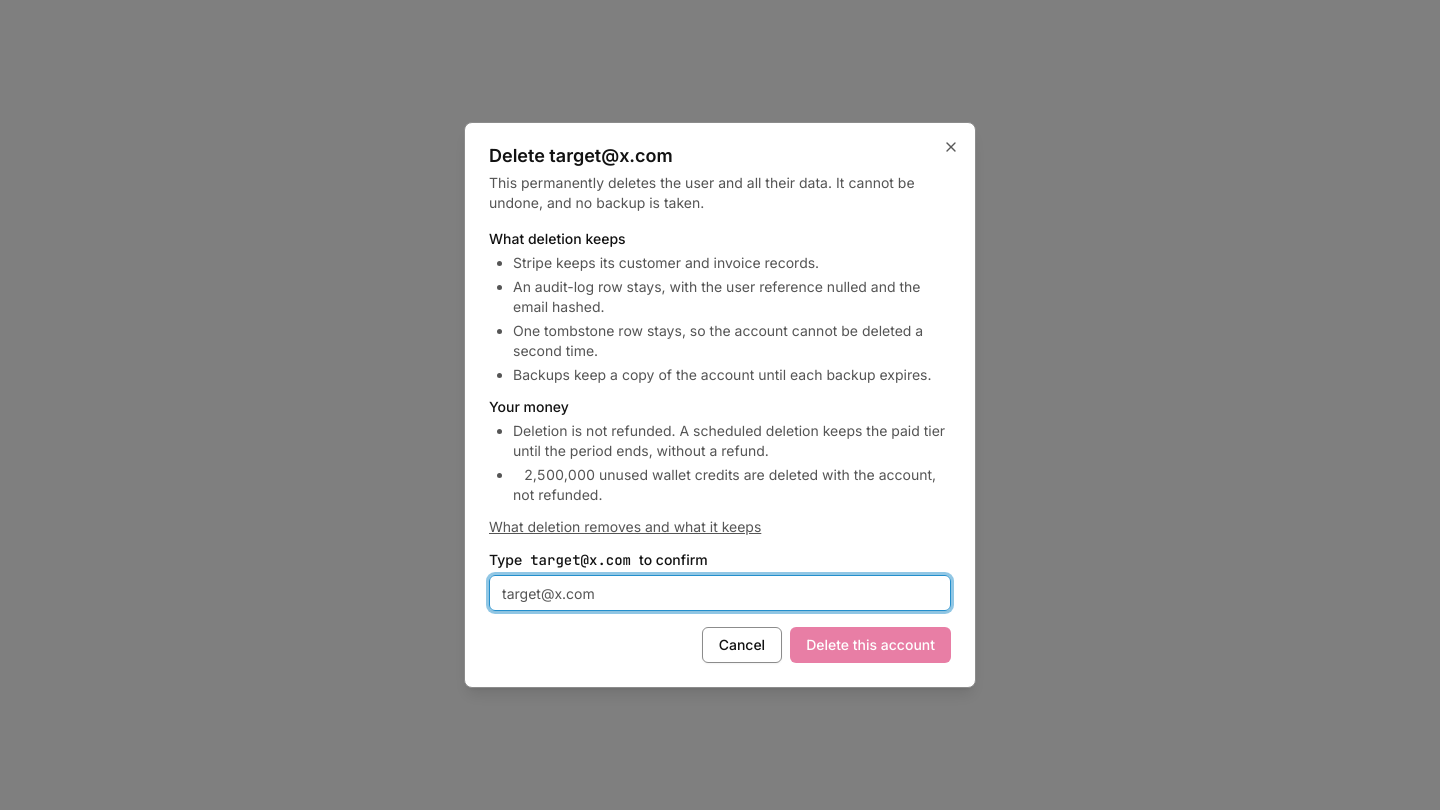
Test: AdminDeleteUserDialog — the confirmation gate › keeps the destructive button disabled until the email is typed, matched case-insensitively
Expected: the button "Delete this account" is disabled, [790,627,951,663]
Type "target@x.co" into the field labelled "Type target@x.com to confirm".
click(720, 593); type("target@x.co")  # box [489,575,951,611]
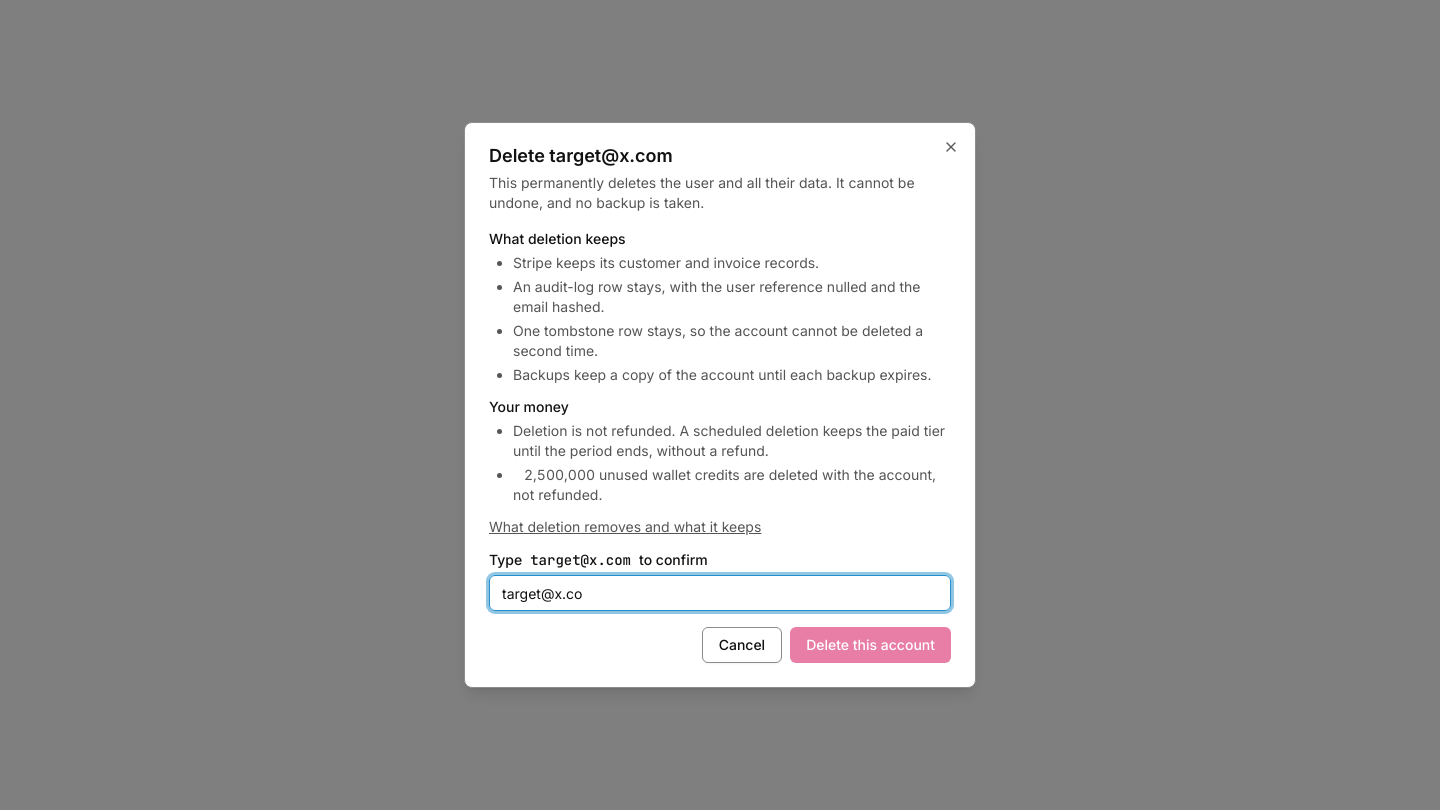
Expected: the button "Delete this account" is disabled, [790,627,951,663]
Type "M" into the field labelled "Type target@x.com to confirm".
click(720, 593); type("M")  # box [489,575,951,611]
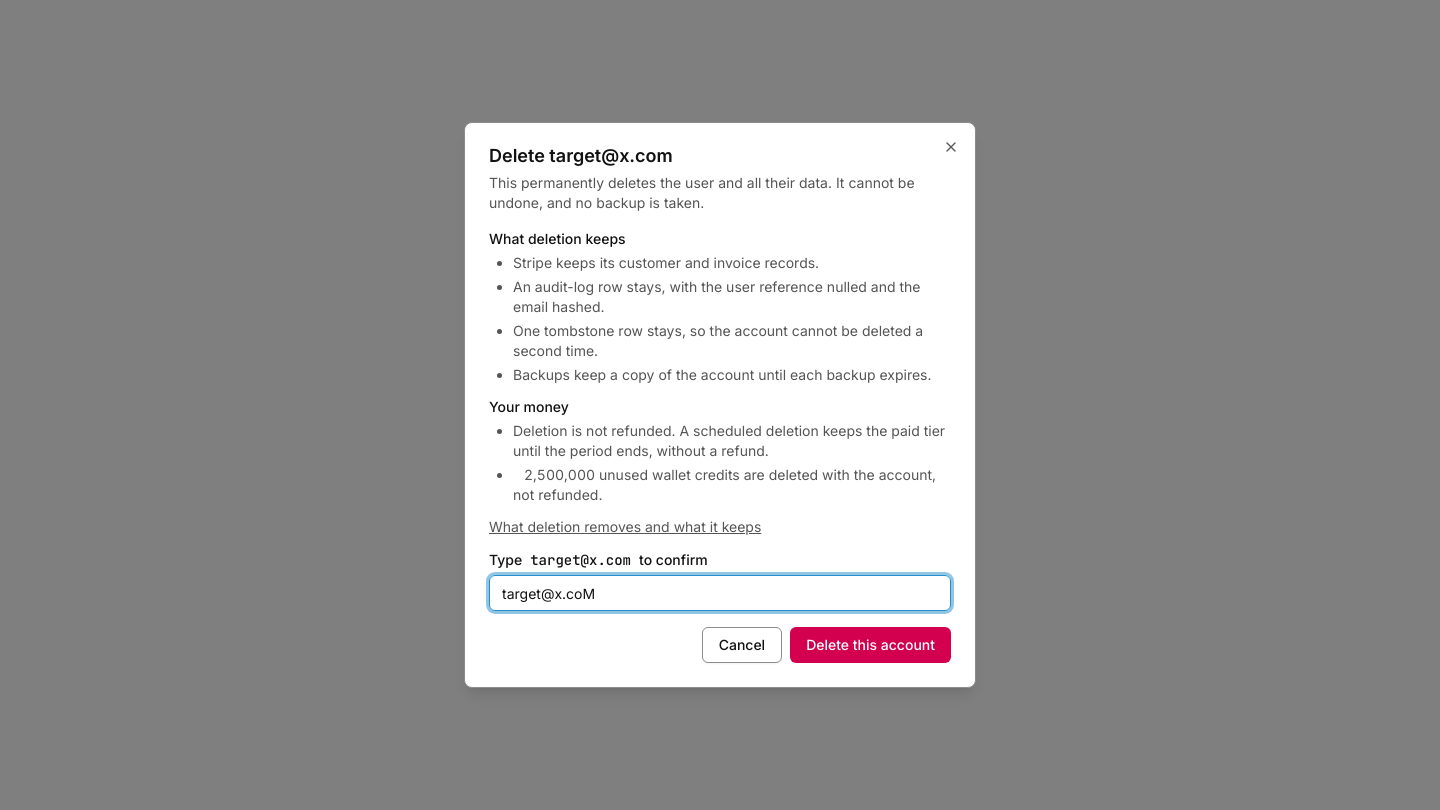
Now the button "Delete this account" is enabled, box [790,627,951,663]
